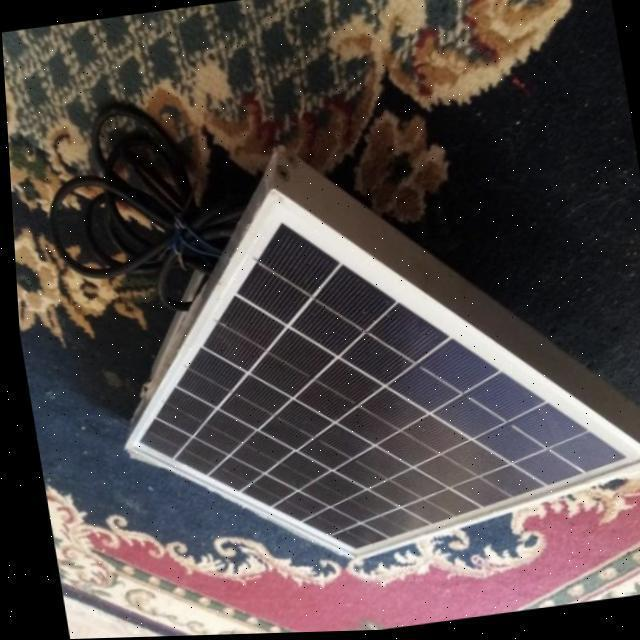Normal Solar Panel: (82, 148, 640, 590)
